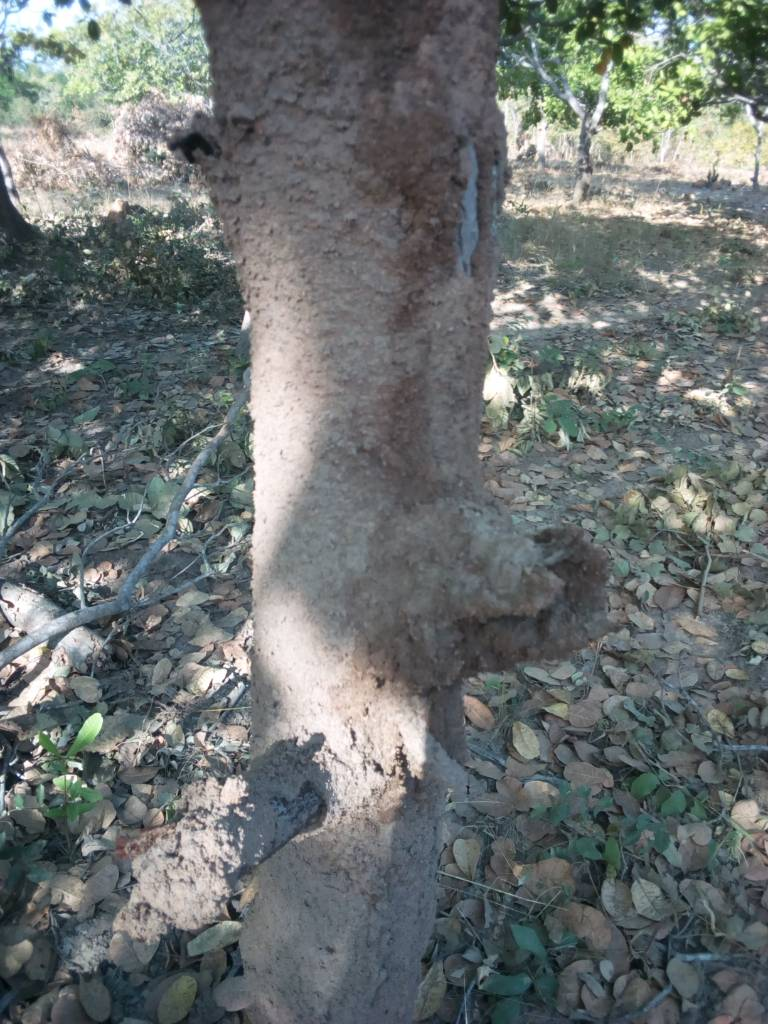Virose: (352, 459, 664, 734)
